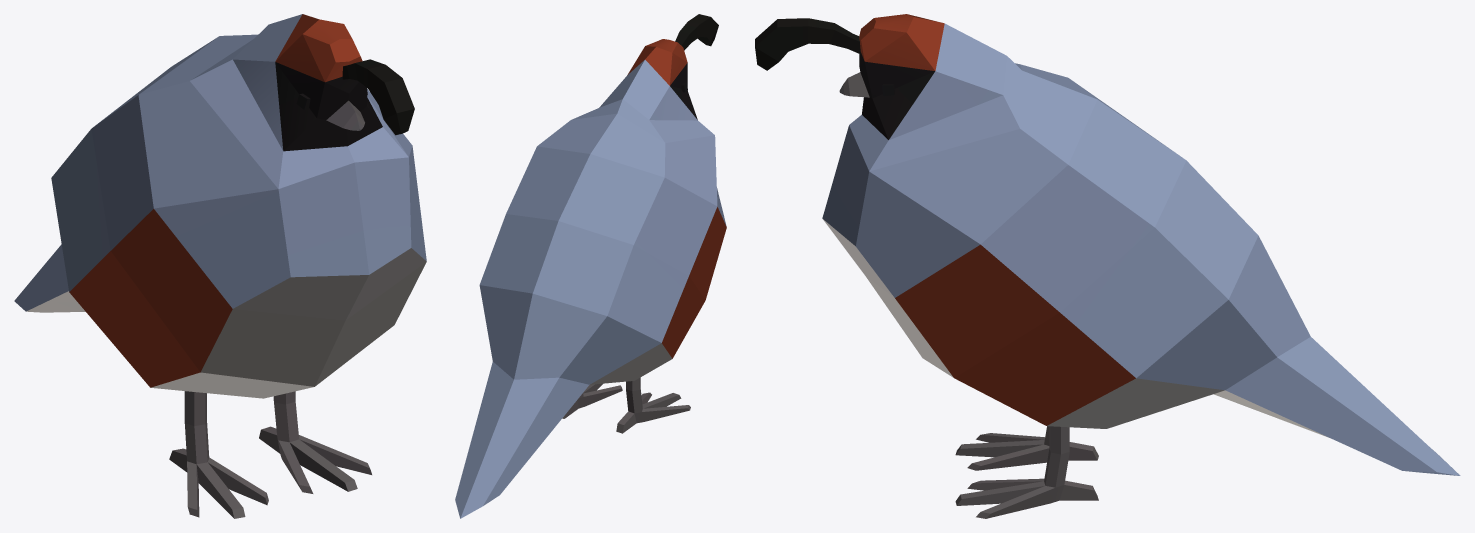
The model's file is 3WonMe83zEX.glb.
The picture shows the model from 3 angles, left to right: view 1: azimuth 30°, elevation 25°; view 2: azimuth 150°, elevation 25°; view 3: azimuth 270°, elevation 25°; orthographic projection. The views are drawn at different scales.
Parts seen in each view (by area): view 1: Geo_Quail; view 2: Geo_Quail; view 3: Geo_Quail.
Part boxes in pixels (bbox=[...]): Geo_Quail: bbox=[14, 14, 426, 518]; Geo_Quail: bbox=[455, 14, 726, 518]; Geo_Quail: bbox=[755, 14, 1460, 518].
Bounding box in the file's own units: 0.5398 × 1 × 1.39.
1 material, 1 textured.
